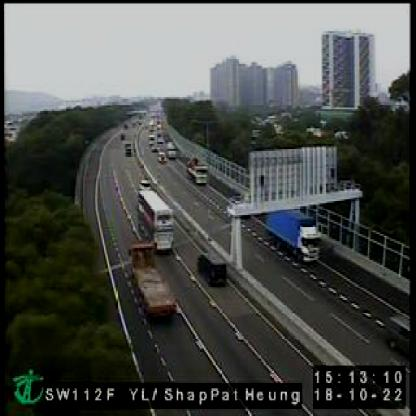Bus: (136, 189, 174, 250)
Car: (196, 250, 228, 286), (138, 177, 152, 189), (158, 152, 166, 163)
Truck: (127, 243, 177, 319), (265, 206, 321, 264), (187, 156, 209, 185), (166, 142, 178, 160)
